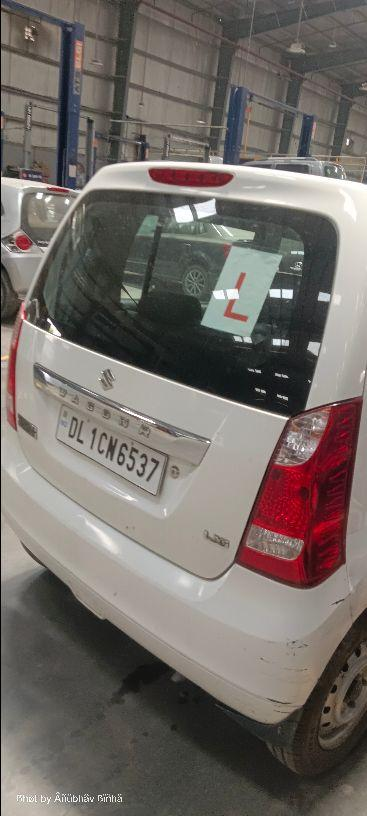license_plate: (54, 402, 168, 496)
